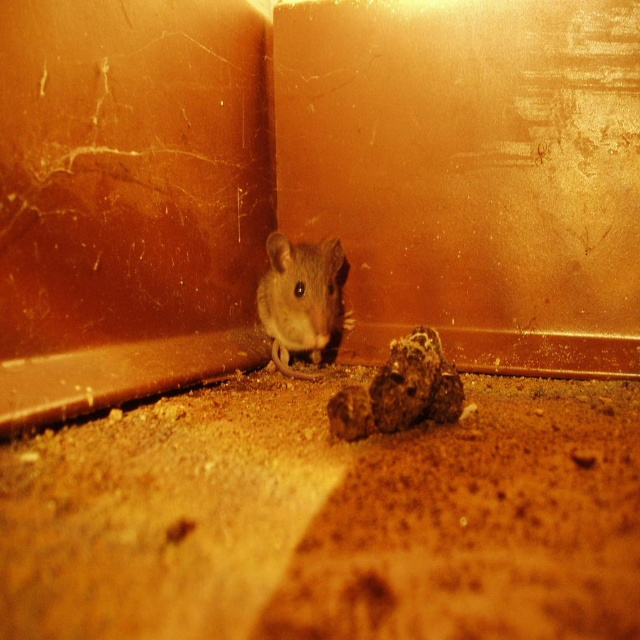Mouse: (254, 230, 344, 381)
